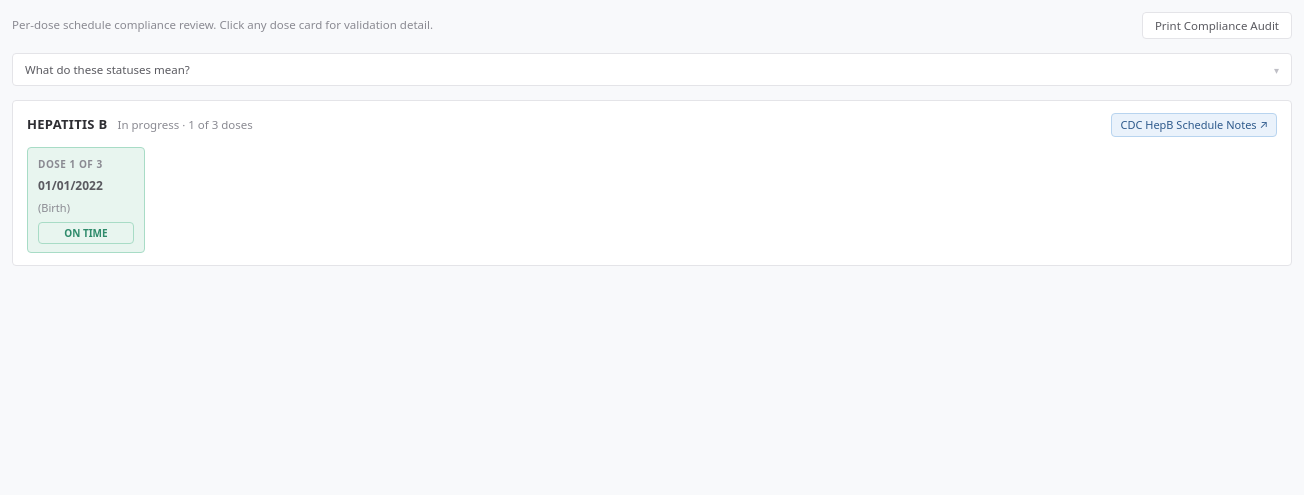
Test: dose card popover › clicking a dose card opens a compliance popover
Click the element with test id "dose-card-HepB-0". click: x=86, y=200
box: [27,147,145,253]
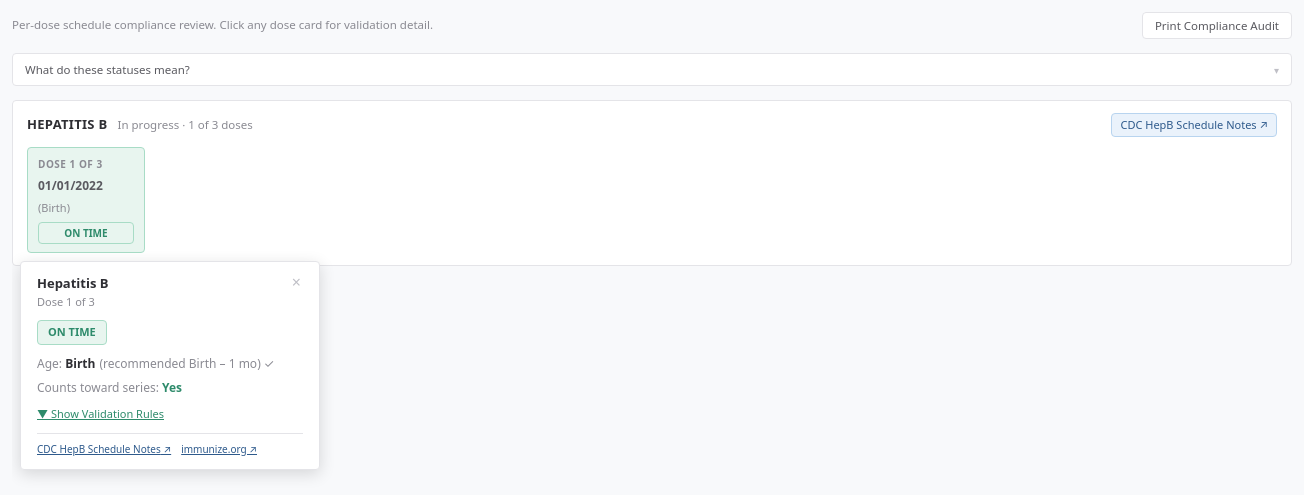
Now the element with test id "dose-compliance-popover" is shown, box [20,261,320,470]
